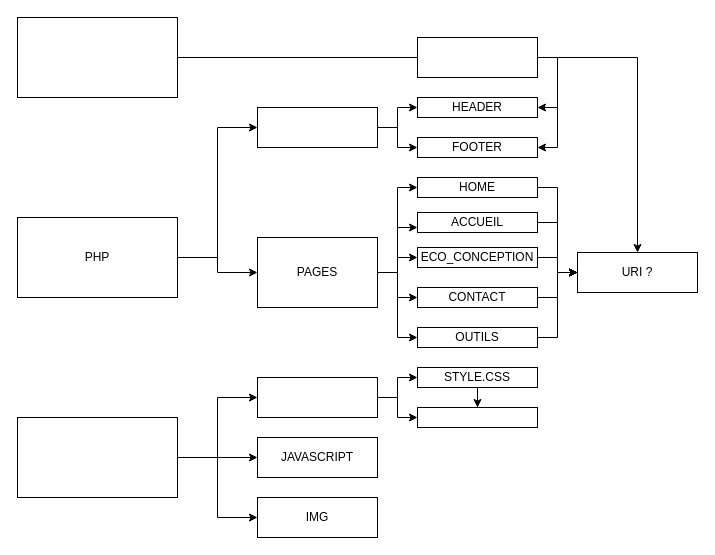
Some shapes in this 715 by 555 pixel diagram are drawn without their labels. Each missing label, with the box of its shape:
ASSETS: (16, 416, 178, 498)
COMMONS: (256, 106, 378, 148)
CSS: (256, 376, 378, 418)
FONTS: (416, 406, 538, 428)
INDEX.PHP: (16, 16, 178, 98)
REQUIRE: (416, 36, 538, 78)
